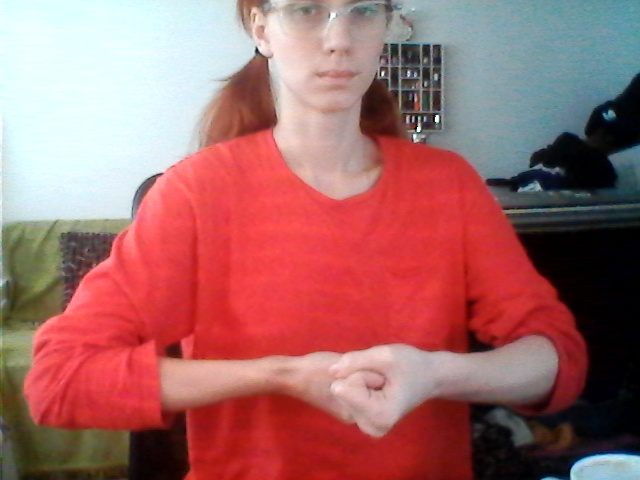hasic: (227, 324, 472, 446)
